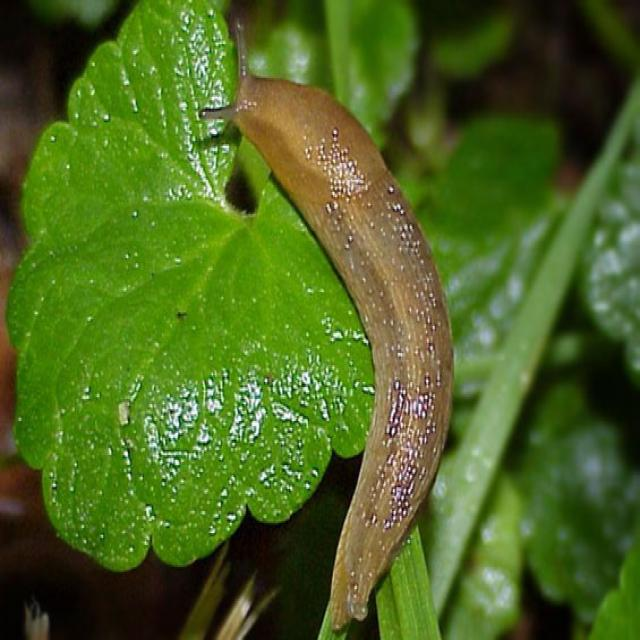slug: (193, 20, 454, 638)
